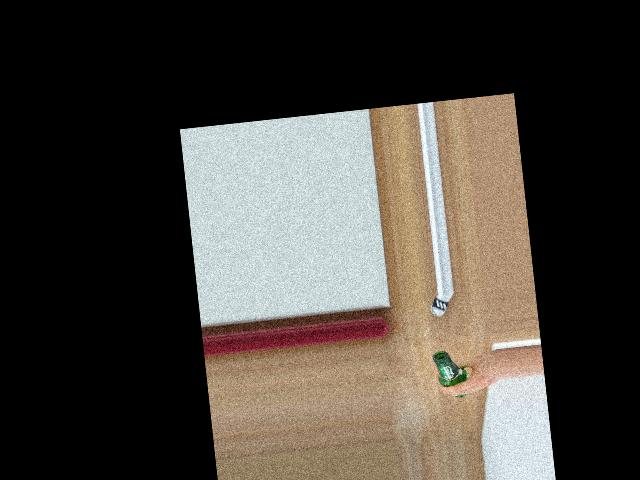beer: (431, 348, 470, 399)
